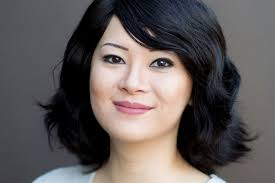asian_female: (83, 1, 213, 158)
